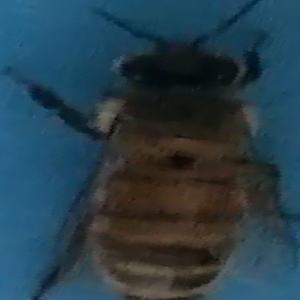bee: (7, 7, 297, 300)
